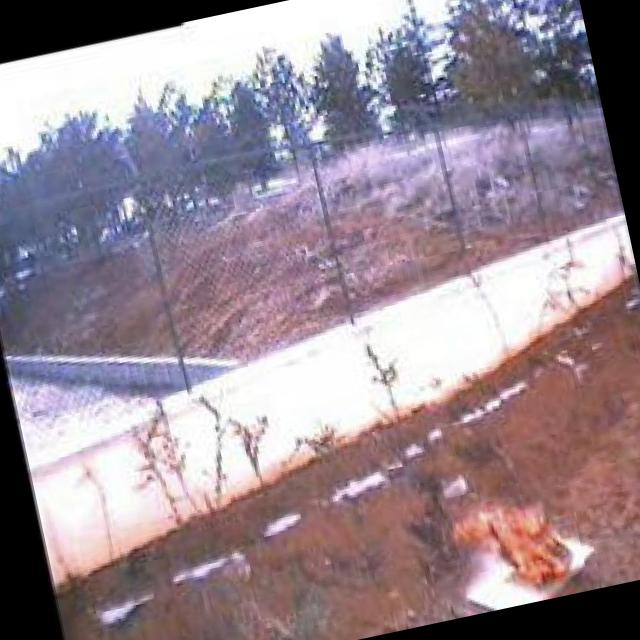fire: (448, 484, 586, 598)
